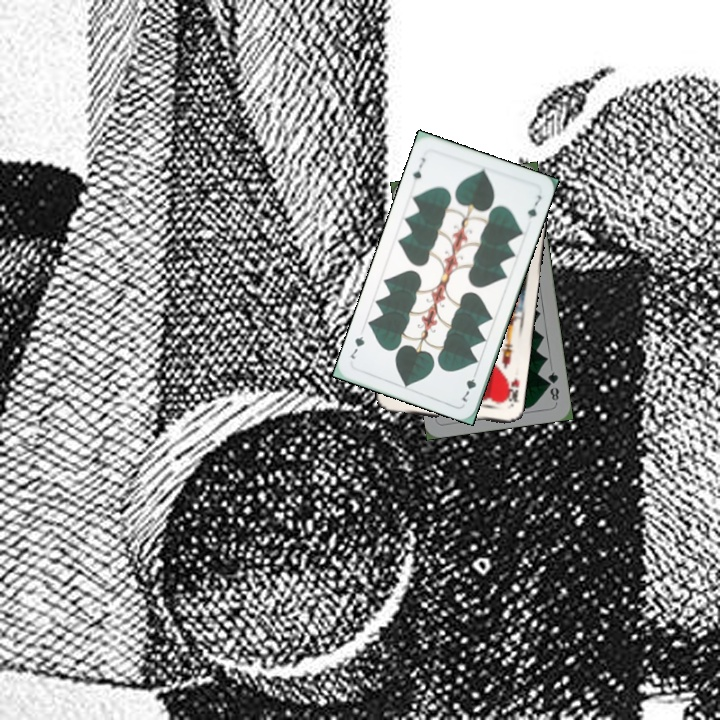G7: (458, 366, 480, 405), (408, 153, 428, 183)
G8: (543, 368, 562, 405)
HK: (500, 374, 522, 411)
